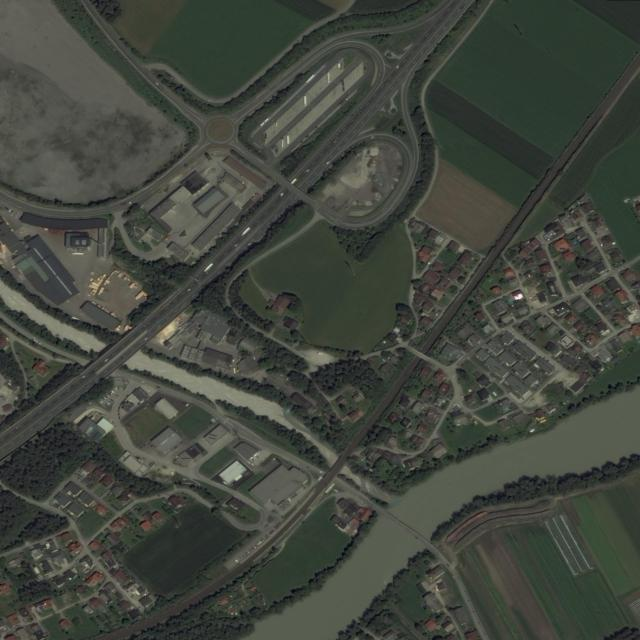large-vehicle: (306, 74, 316, 84), (241, 227, 251, 236), (204, 263, 213, 272), (70, 316, 81, 321), (33, 339, 42, 345), (327, 72, 331, 82), (72, 252, 84, 255), (291, 179, 297, 184), (264, 118, 270, 123), (278, 193, 284, 198), (304, 96, 307, 106), (260, 122, 265, 127), (164, 236, 169, 241), (291, 147, 296, 152), (223, 481, 228, 485), (282, 138, 284, 148), (338, 63, 341, 69), (287, 135, 289, 144), (233, 368, 236, 373), (186, 403, 189, 406), (171, 472, 173, 476), (276, 122, 277, 127)
small-vehicle: (144, 337, 148, 341), (234, 243, 238, 247), (155, 82, 159, 86), (248, 242, 252, 246), (287, 499, 291, 503), (105, 359, 109, 363), (318, 352, 323, 355), (415, 537, 419, 540), (207, 99, 211, 102), (326, 161, 330, 164), (141, 381, 145, 384), (156, 387, 161, 389), (300, 141, 303, 144), (306, 169, 309, 172), (82, 376, 85, 379), (447, 564, 450, 567), (401, 64, 404, 67), (396, 66, 399, 69), (187, 289, 191, 291), (346, 208, 348, 211), (453, 576, 455, 579), (216, 100, 219, 101)
